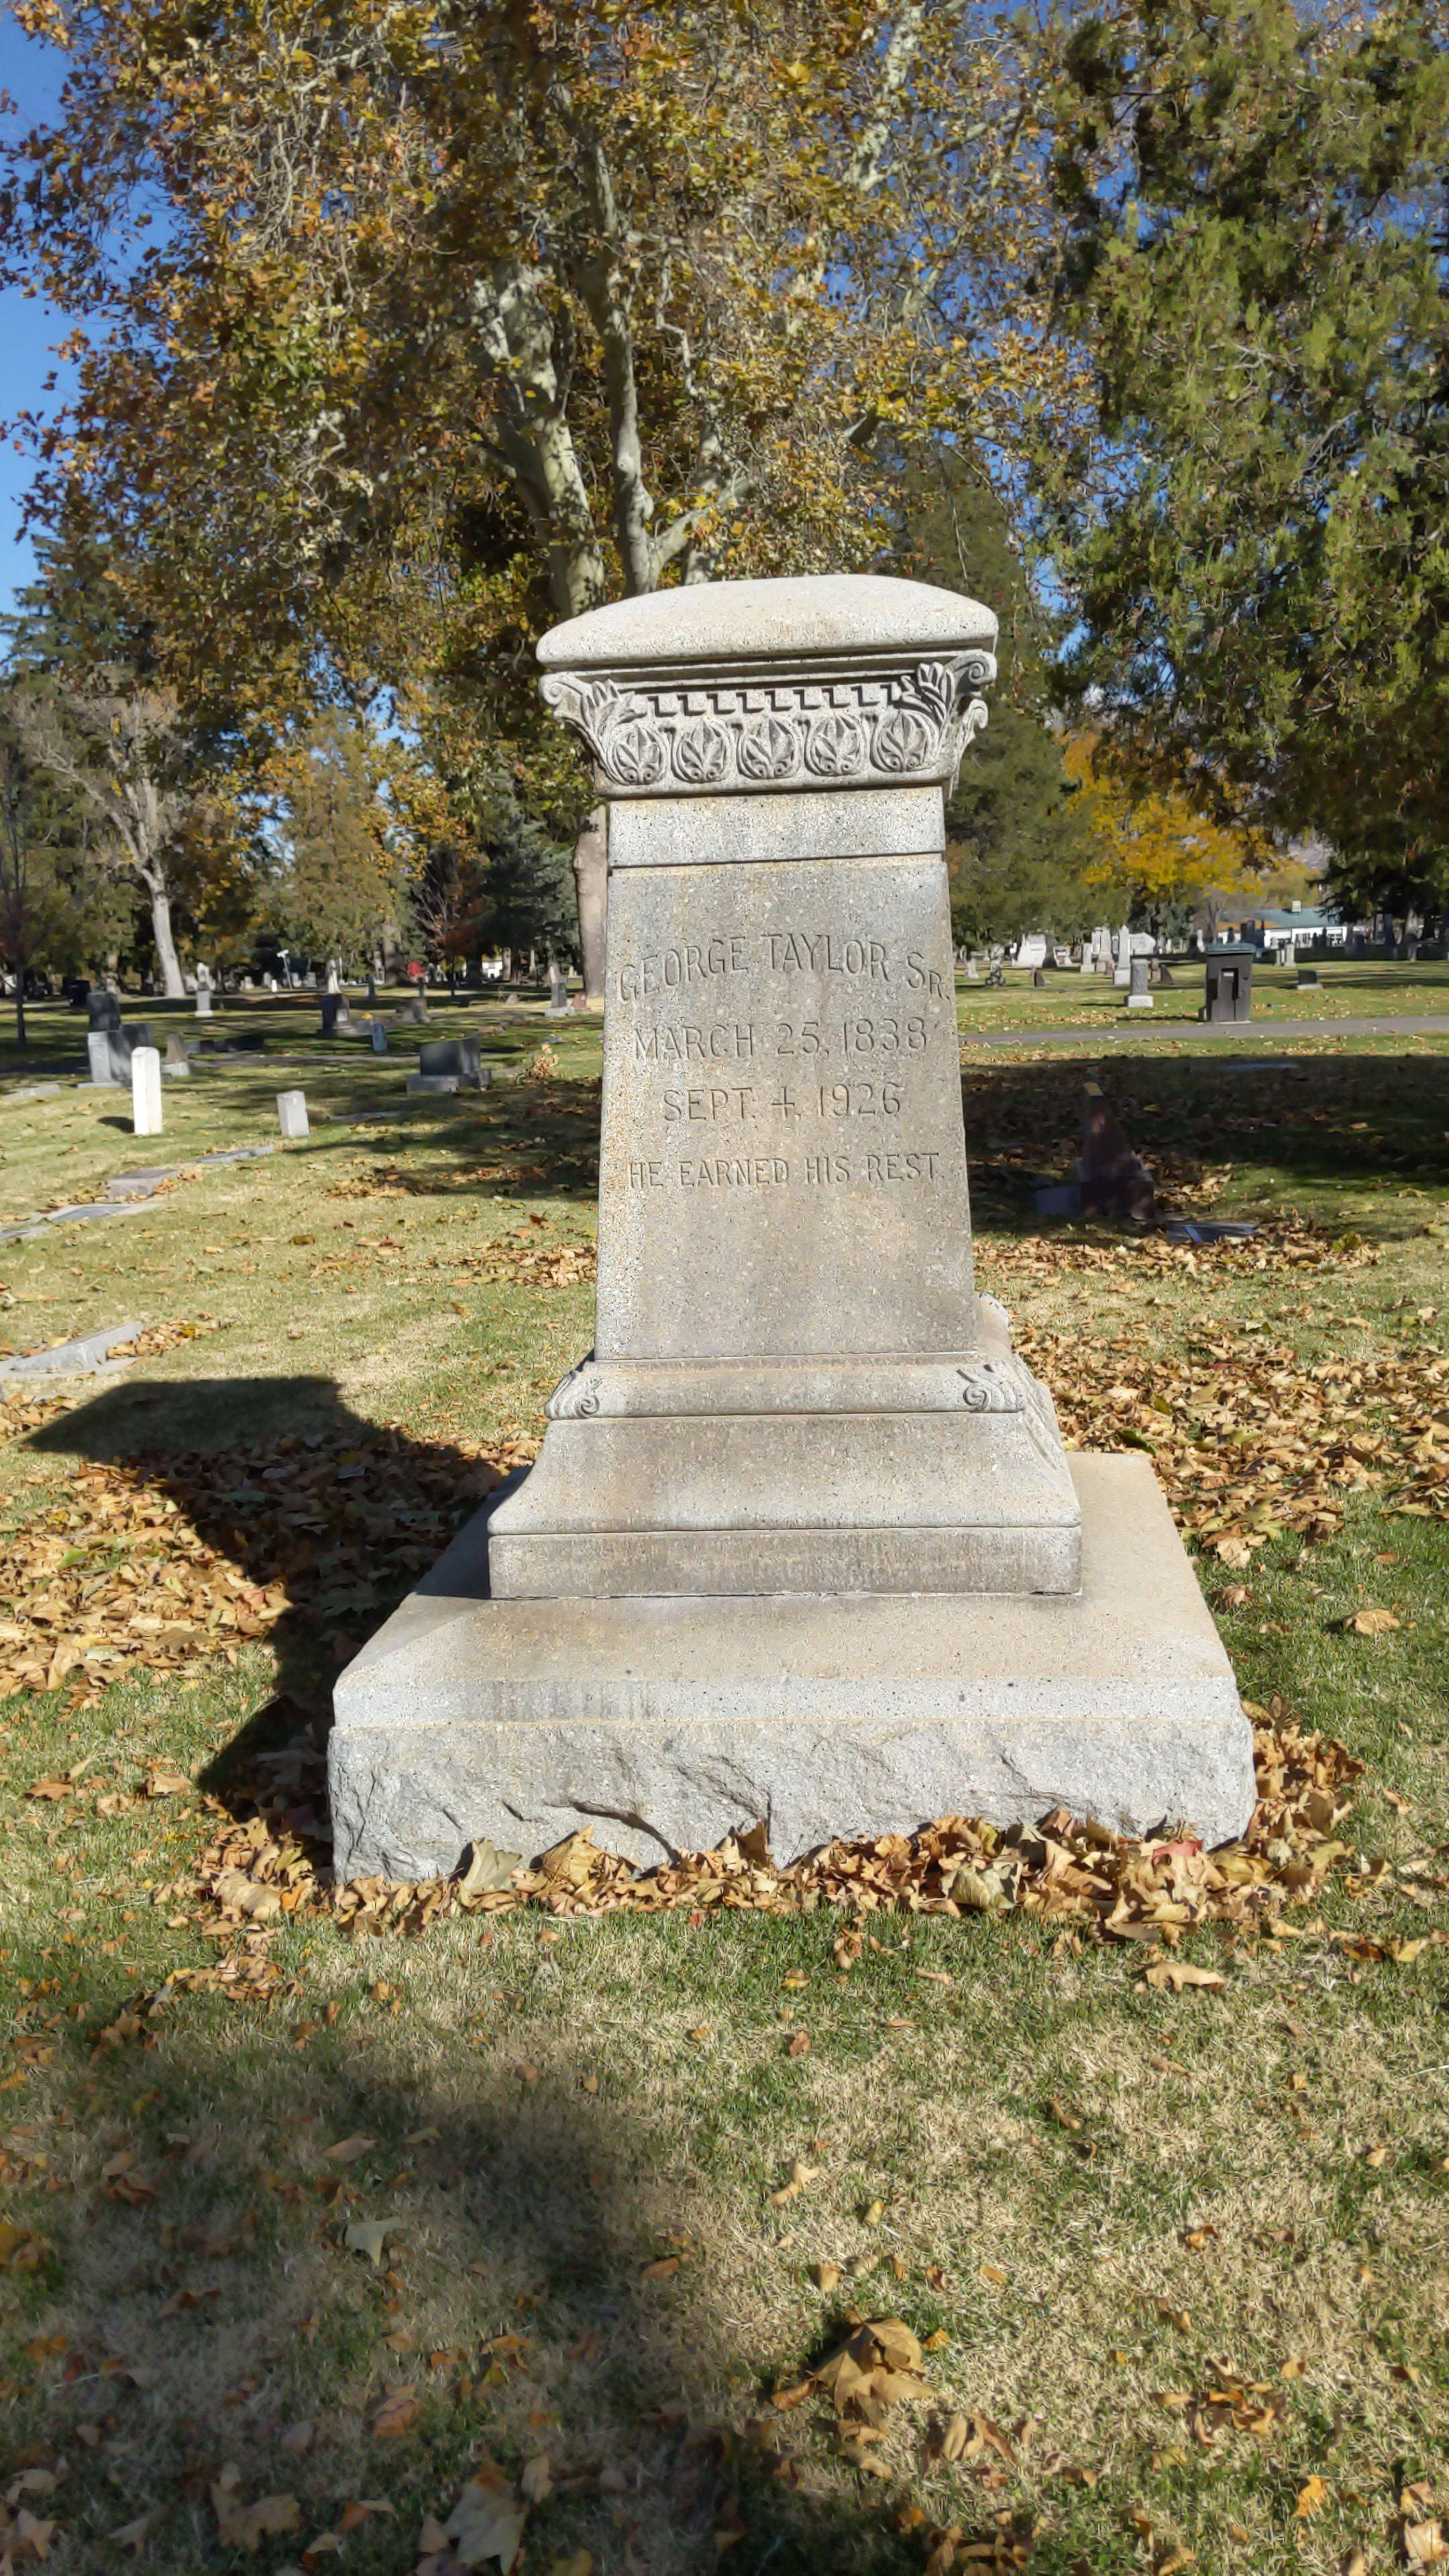obelisk: (495, 573, 1076, 1589)
